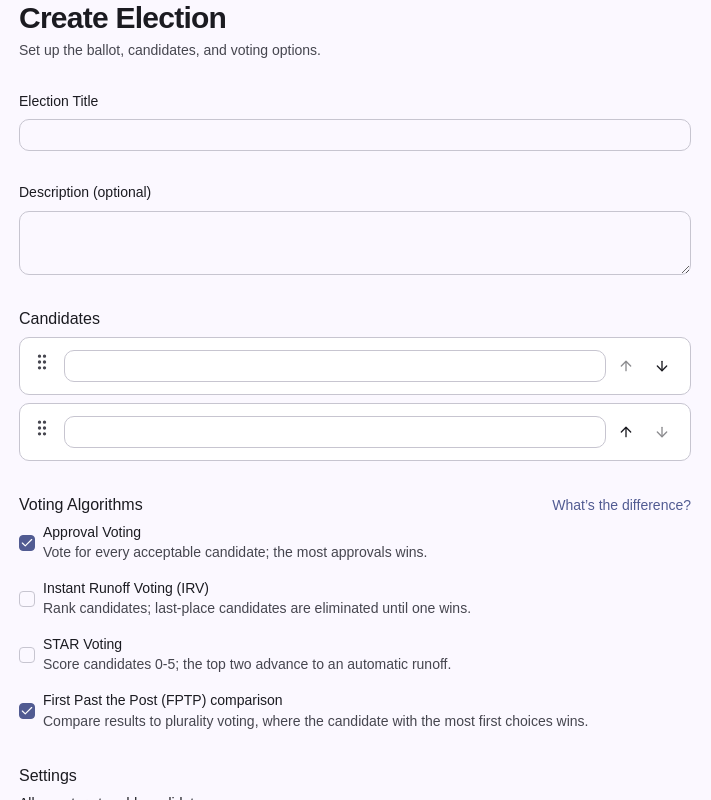
Test: M11 create election › does not accept the FPTP comparison as the only selected method
The width and height of the screenshot is (711, 800).
Type "City Council" into the field labelled "Election Title".
click(355, 135); type("City Council")  # box [19,119,691,151]
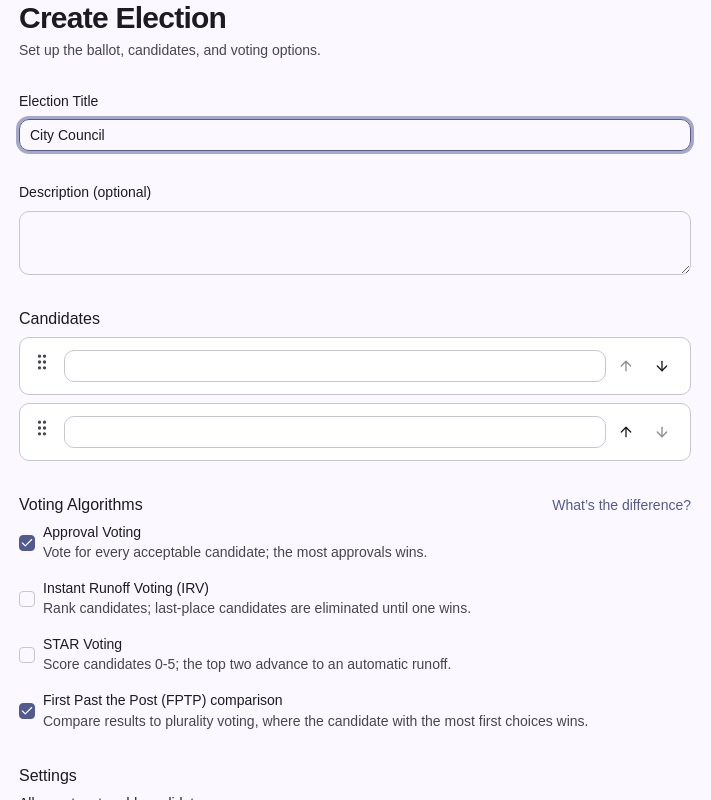
Type "Alice" into the field named "Candidate 1".
click(335, 366); type("Alice")  # box [64,350,606,382]
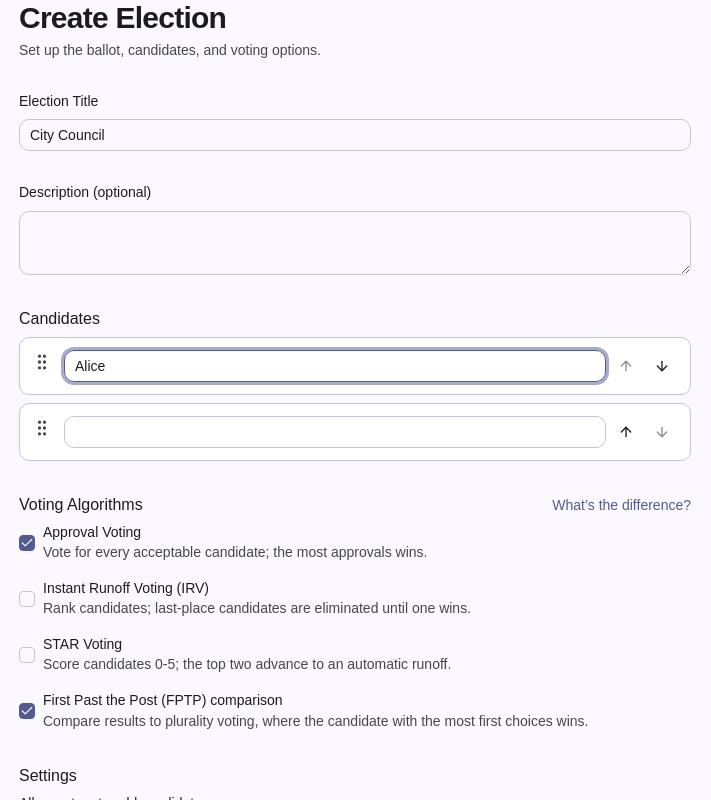
Type "Bob" into the field named "Candidate 2".
click(335, 432); type("Bob")  # box [64,416,606,448]
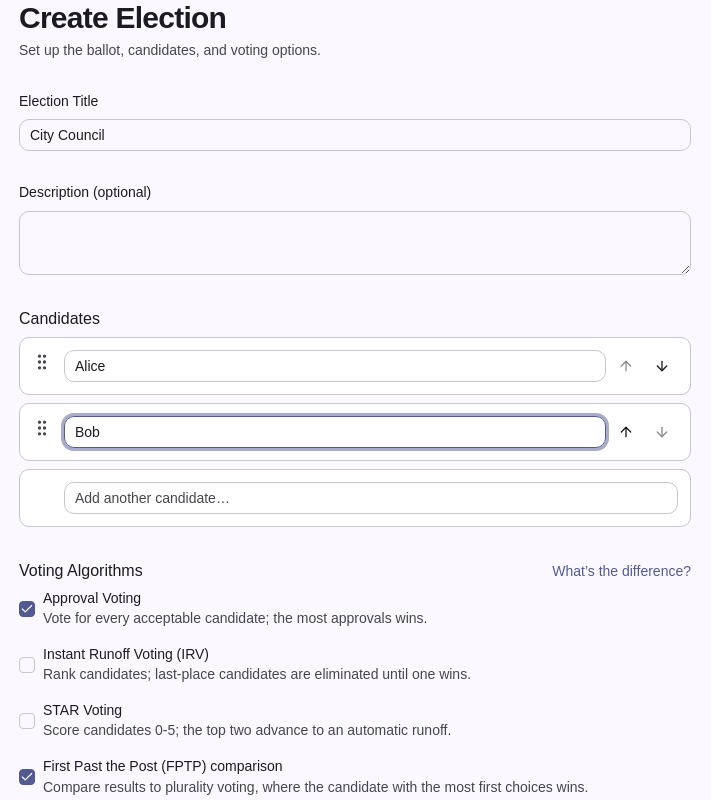
Click the checkbox named "Approval Voting" next to "Approval Voting".
click(27, 609)  # box [19,601,35,617]
(page scrolled)
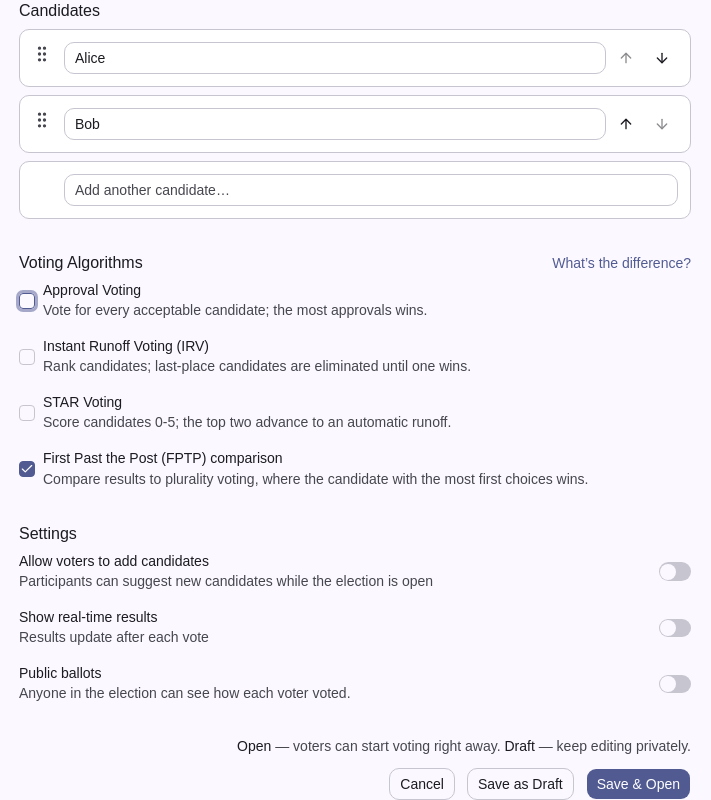
Expected: the checkbox named "First Past the Post (FPTP) comparison" next to "First Past the Post (FPTP) comparison" is checked, [19,461,35,477]
Click the button "Save & Open".
click(638, 784)  # box [586,768,691,799]
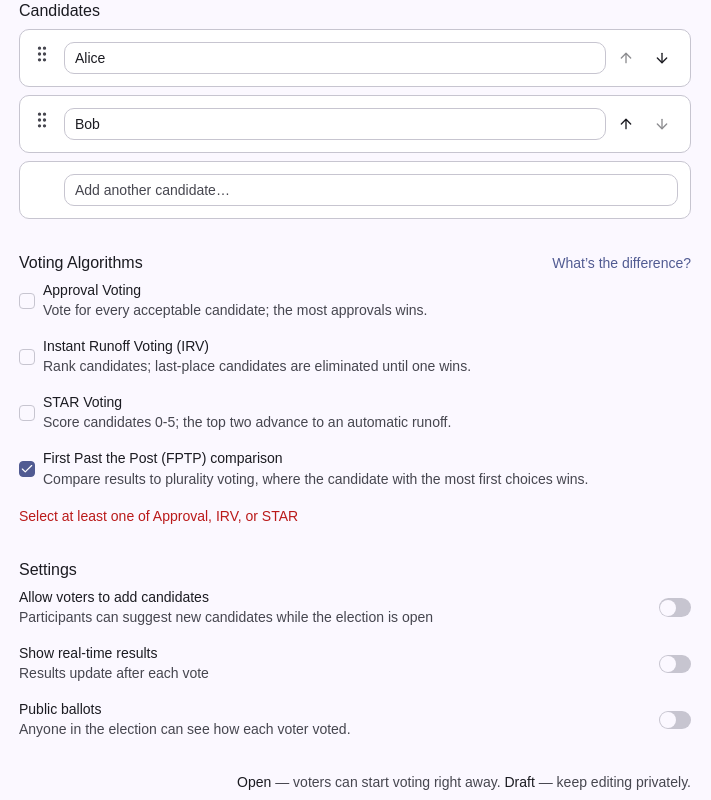
Expected: the text "Select at least one of Approval, IRV, or STAR" is shown, [19,508,298,524]
